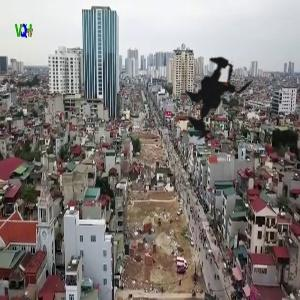drone: (155, 36, 284, 165)
